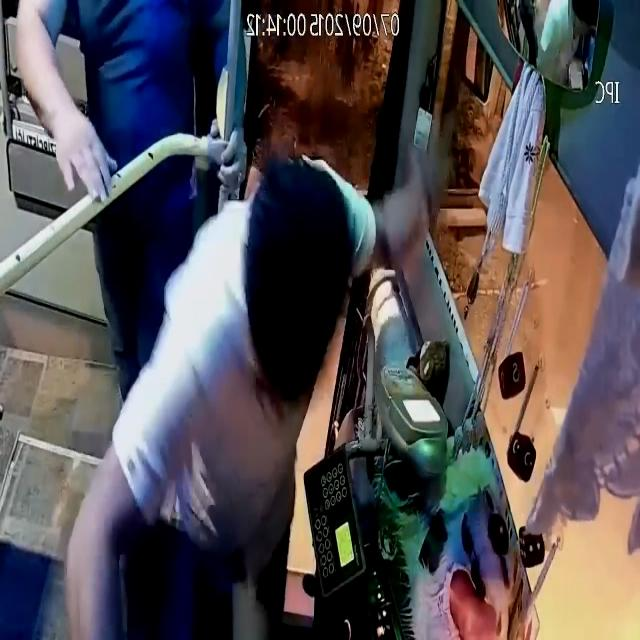fight: (57, 120, 451, 640)
